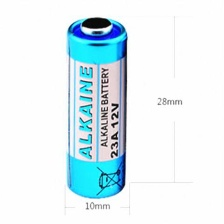battery: (63, 15, 129, 200)
